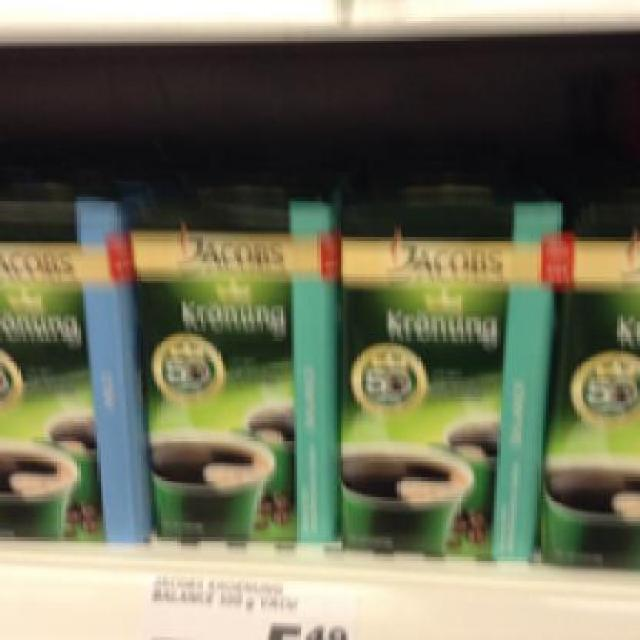Coffee: (331, 180, 560, 560), (128, 186, 334, 543)
